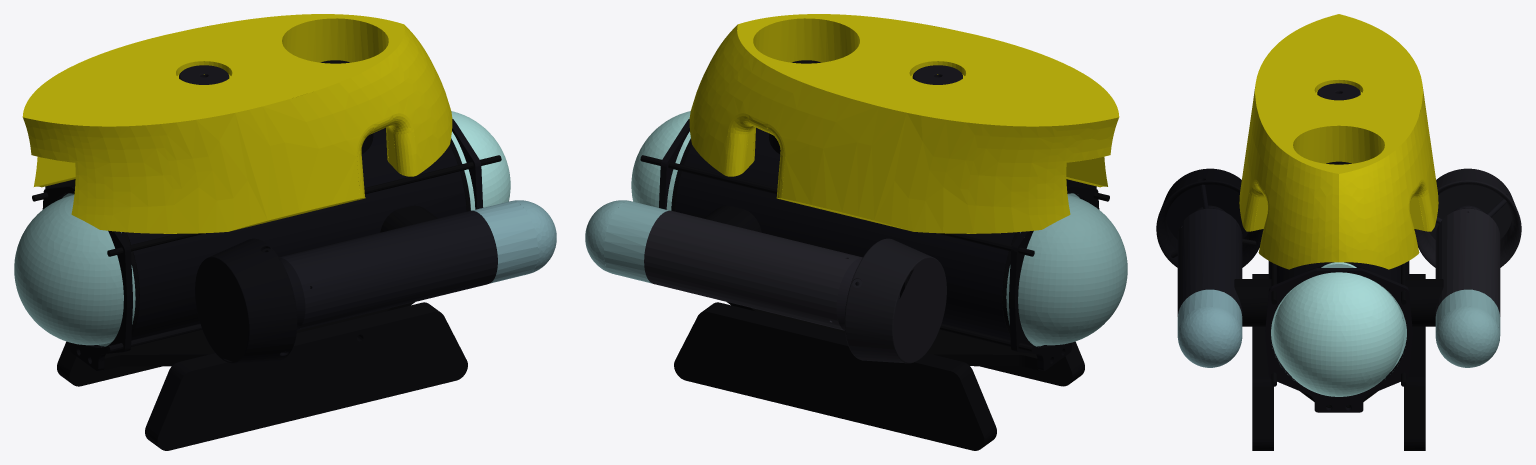
The model's file is saga.dae.
3 views of the same model, side by side, from view 1: azimuth 30°, elevation 25°; view 2: azimuth 150°, elevation 25°; view 3: azimuth 270°, elevation 25° (orthographic). The views are drawn at different scales.
Parts seen in each view (by area): view 1: ShapeIndexedFaceSet_037; view 2: ShapeIndexedFaceSet_037; view 3: ShapeIndexedFaceSet_037.
Boxes of the visible parts, x1=… form: ShapeIndexedFaceSet_037: x1=14, y1=14, x2=556, y2=450; ShapeIndexedFaceSet_037: x1=585, y1=14, x2=1127, y2=450; ShapeIndexedFaceSet_037: x1=1156, y1=14, x2=1521, y2=450.
Bounding box in the file's own units: 0.4384 × 0.3376 × 0.2807.
